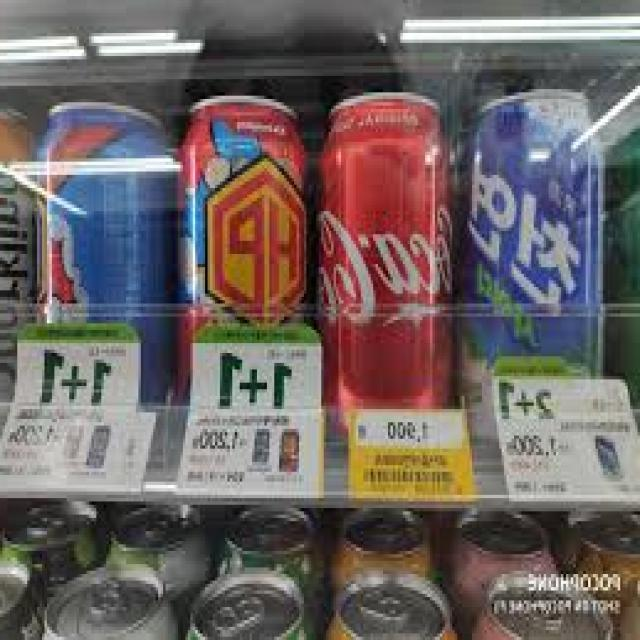Coca-Cola: (310, 89, 452, 440)
